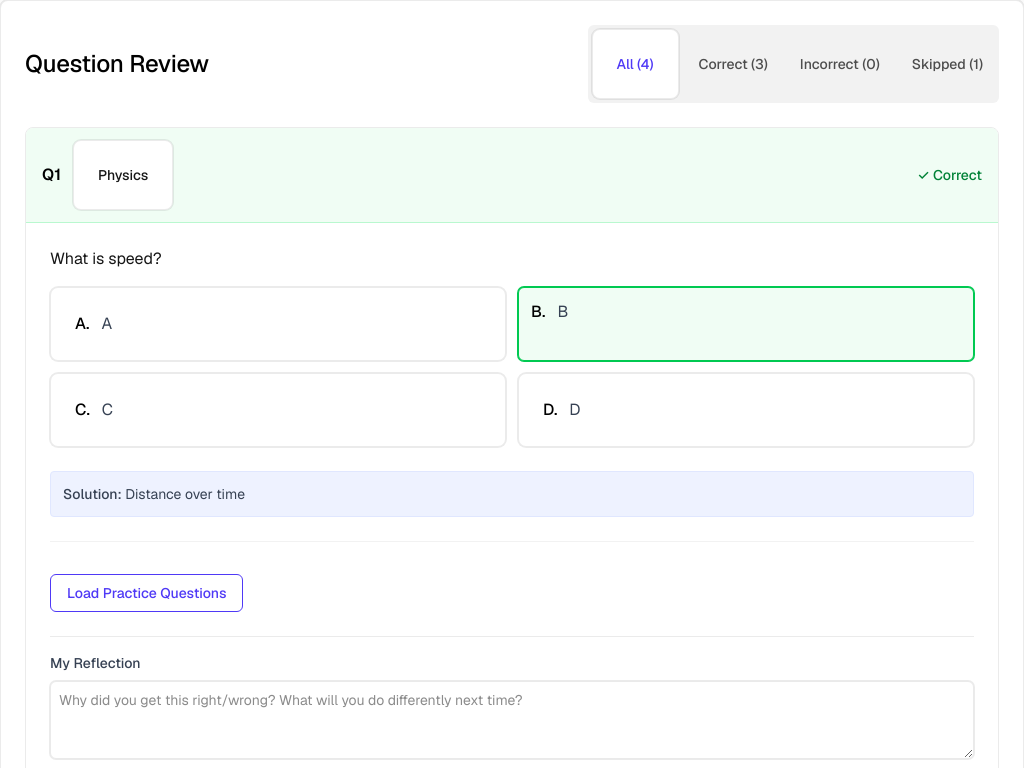
Test case: QuestionReview › filtering to "skipped" shows only Q3
Click the button "skipped (1)": (947,64) [900,29,995,99]
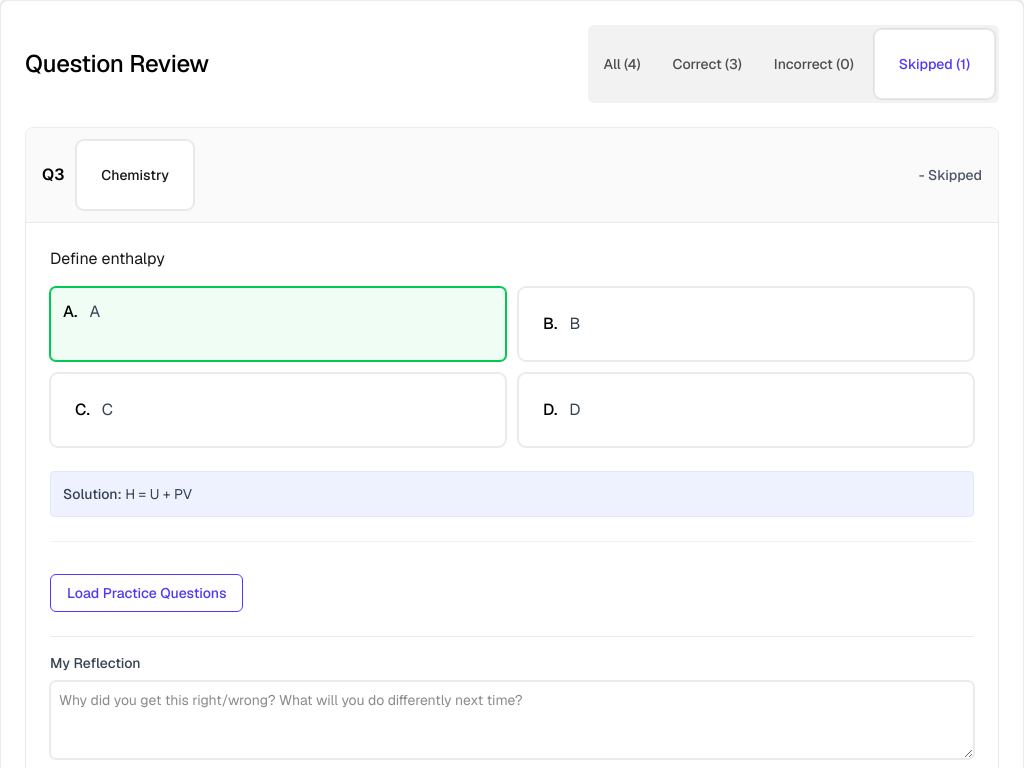
Expected: the text "Q3" is shown, [42,163,64,187]
Expected: the text "Q1" is gone
